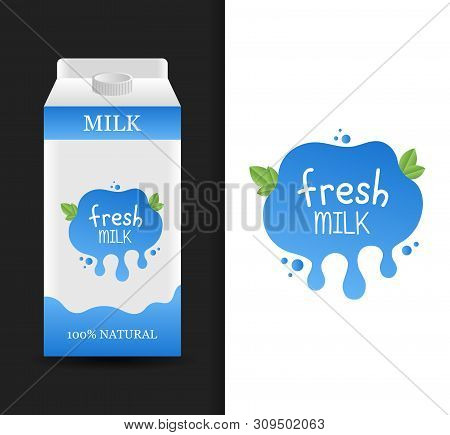carton: (22, 23, 199, 381)
